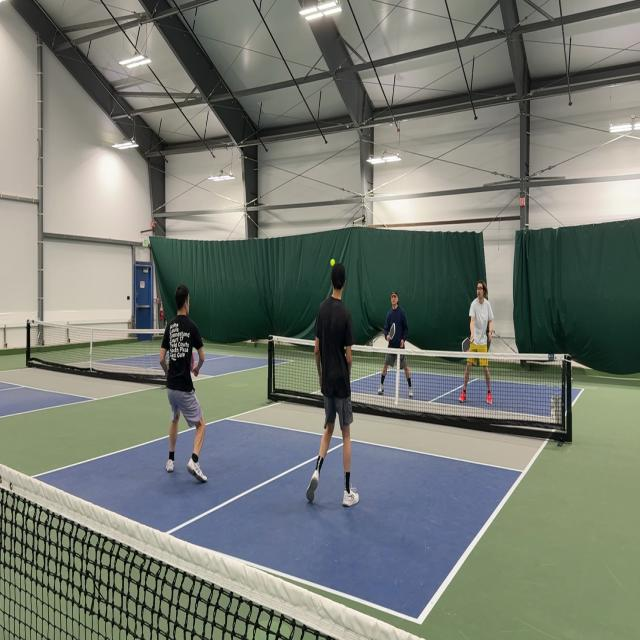ball: (329, 258, 336, 268)
